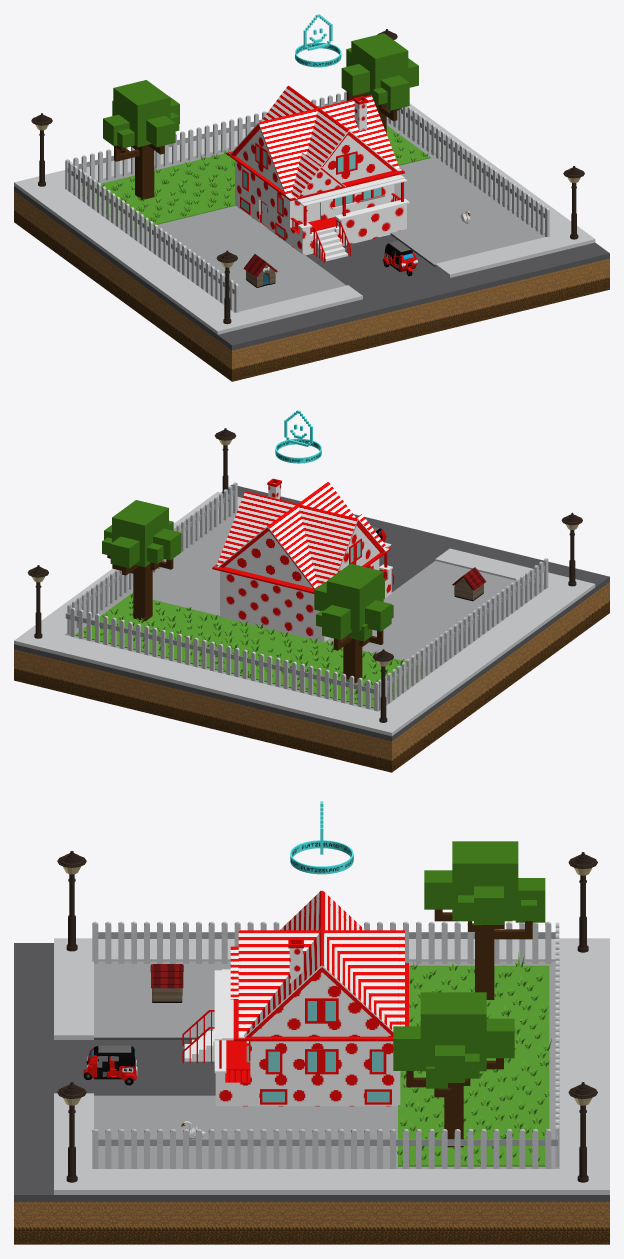
3 views of the same model, one above another, from view 1: azimuth 30°, elevation 25°; view 2: azimuth 150°, elevation 25°; view 3: azimuth 270°, elevation 25° (orthographic). The views are drawn at different scales.
Visible parts, largest first — view 1: Cube.004, Cube.196, TYPE_PREMIUM, VEHICLES_TUC_TUC, OBJRANDOM_DOGHOUSE; view 2: Cube.004, Cube.196, TYPE_PREMIUM, OBJRANDOM_DOGHOUSE; view 3: Cube.004, Cube.196, VEHICLES_TUC_TUC, TYPE_PREMIUM, OBJRANDOM_DOGHOUSE.
Part boxes in pixels (bbox=[...]): Cube.004: bbox=[14, 29, 609, 381]; Cube.196: bbox=[226, 85, 409, 262]; TYPE_PREMIUM: bbox=[295, 14, 341, 67]; VEHICLES_TUC_TUC: bbox=[382, 240, 417, 276]; OBJRANDOM_DOGHOUSE: bbox=[243, 254, 277, 287]; Cube.004: bbox=[14, 428, 609, 772]; Cube.196: bbox=[212, 478, 394, 642]; TYPE_PREMIUM: bbox=[275, 410, 321, 463]; OBJRANDOM_DOGHOUSE: bbox=[452, 567, 486, 601]; Cube.004: bbox=[14, 841, 609, 1244]; Cube.196: bbox=[182, 890, 408, 1106]; VEHICLES_TUC_TUC: bbox=[83, 1045, 137, 1085]; TYPE_PREMIUM: bbox=[290, 801, 353, 874]; OBJRANDOM_DOGHOUSE: bbox=[150, 964, 183, 1002].
Bounding box in the file's own units: 4000 × 2489 × 4000.
Materials: 38 (6 with a texture image).
